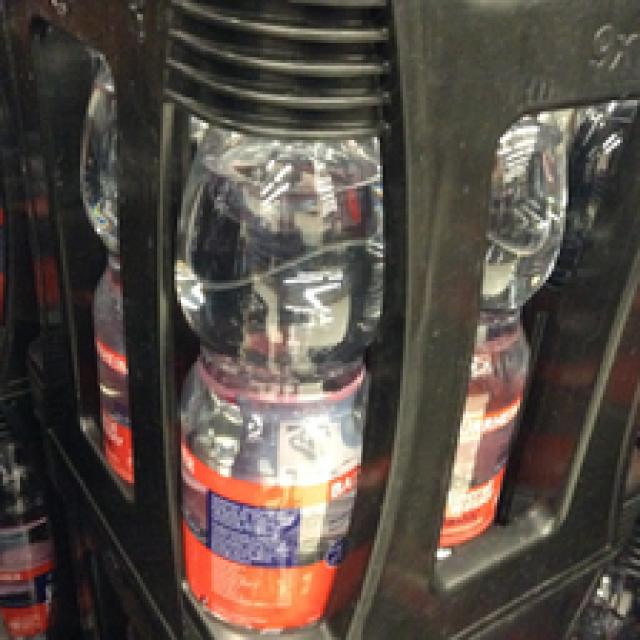groceries: (169, 129, 374, 634)
